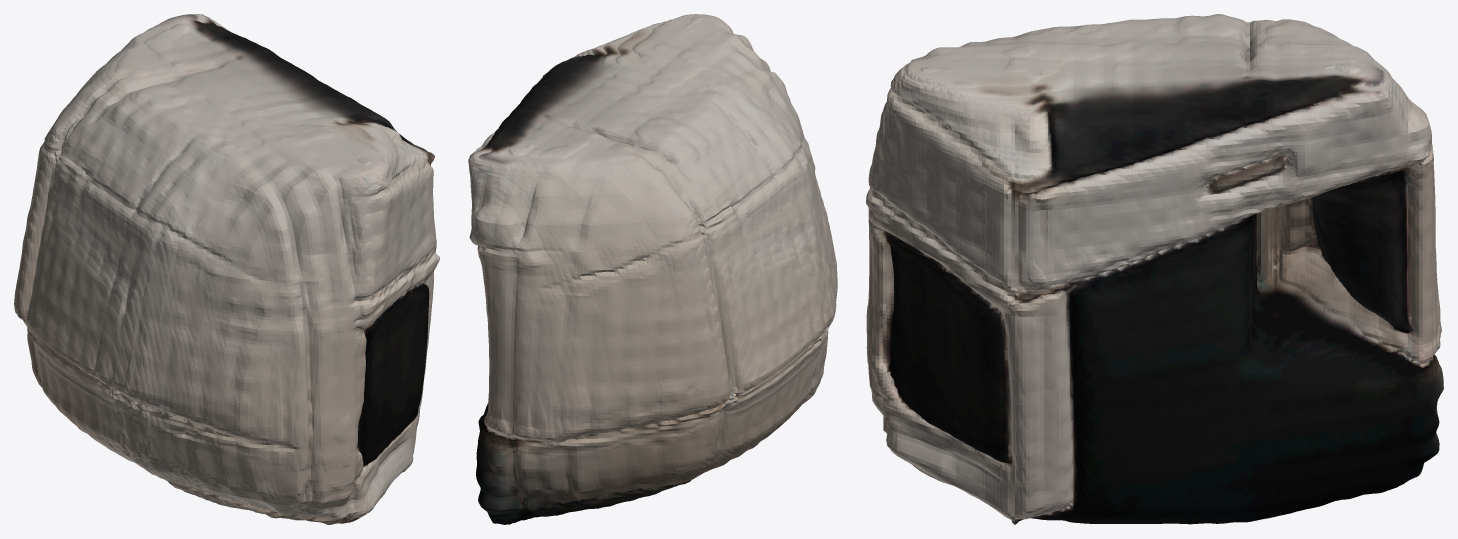
File: model_6f4dfaf1.glb
3 views of the same model, side by side, from view 1: azimuth 30°, elevation 25°; view 2: azimuth 150°, elevation 25°; view 3: azimuth 270°, elevation 25° (orthographic). The views are drawn at different scales.
Visible parts, largest first — view 1: world; view 2: world; view 3: world.
Boxes of the visible parts, x1=… form: world: x1=14, y1=14, x2=439, y2=524; world: x1=468, y1=14, x2=837, y2=524; world: x1=866, y1=14, x2=1443, y2=524.
Bounding box in the file's own units: 0.7769 × 0.9043 × 1.07.
